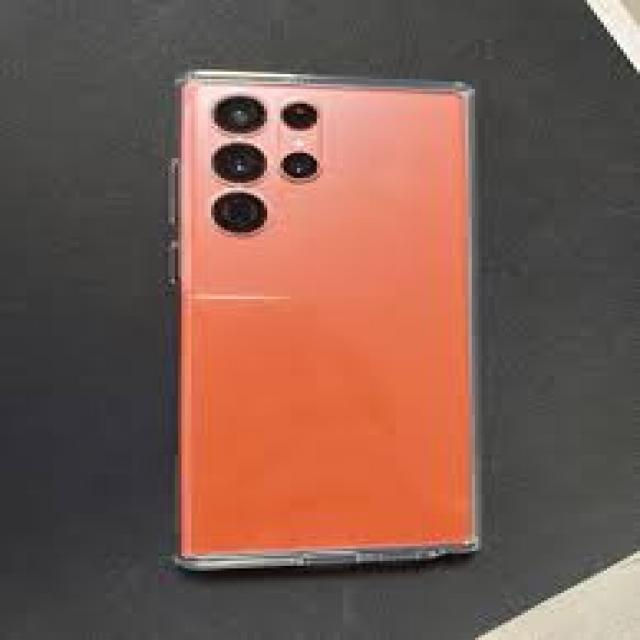phone: (170, 66, 486, 576)
